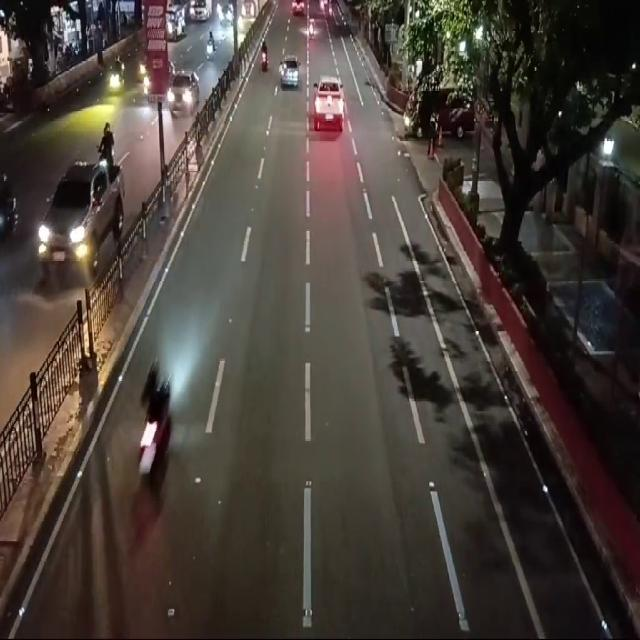car: (35, 160, 127, 294), (310, 72, 350, 139), (167, 70, 203, 124), (276, 56, 302, 94)
motorcycle: (92, 119, 123, 156), (256, 37, 270, 75)
